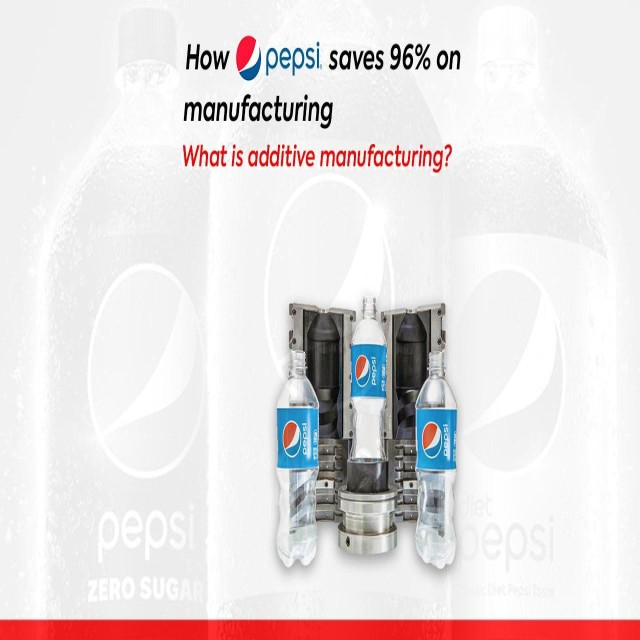pepsi: (234, 31, 263, 85), (420, 420, 442, 463), (280, 418, 302, 460), (355, 354, 371, 390)
